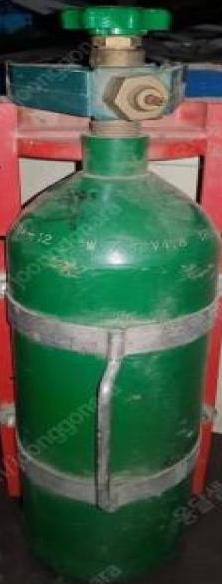cylinder: (1, 1, 222, 584)
